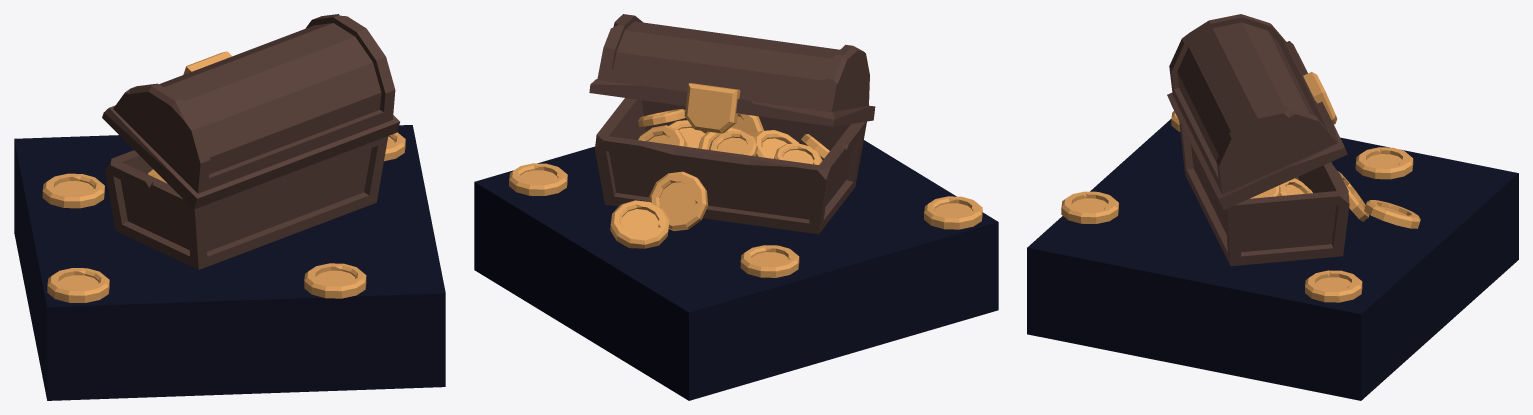
The model's file is chest.glb.
3 renders of one model, left to right at view 1: azimuth 30°, elevation 25°; view 2: azimuth 150°, elevation 25°; view 3: azimuth 270°, elevation 25°, orthographic. The views are drawn at different scales.
Parts seen in each view (by area): view 1: Plane.003, Plane.002, Plane.004, Circle.013, Circle.001, Circle.012, Circle.014, Plane.005; view 2: Plane.003, Plane.002, Plane.004, Circle.015, Circle.016, Plane.005, Circle.001, Circle.012, Circle.014, Circle.009, Circle.004, Circle.007 (+4 smaller); view 3: Plane.003, Plane.002, Plane.004, Circle.013, Circle.014, Circle.012, Circle.016, Plane.005, Circle.015.
Part boxes in pixels (box(x1,y1,x2,y2)): Plane.003: box(14, 125, 445, 400); Plane.002: box(102, 14, 399, 209); Plane.004: box(105, 136, 388, 269); Circle.013: box(304, 263, 366, 298); Circle.001: box(47, 268, 109, 302); Circle.012: box(42, 173, 104, 208); Circle.014: box(384, 132, 405, 161); Plane.005: box(183, 51, 232, 74); Plane.003: box(474, 140, 998, 400); Plane.002: box(589, 14, 875, 126); Plane.004: box(595, 98, 866, 234); Circle.015: box(649, 171, 707, 231); Circle.016: box(610, 200, 669, 248); Plane.005: box(684, 83, 740, 133); Circle.001: box(924, 196, 982, 229); Circle.012: box(740, 245, 799, 277); Circle.014: box(509, 163, 567, 195); Circle.009: box(709, 131, 757, 156); Circle.004: box(753, 130, 798, 158); Circle.007: box(774, 143, 822, 164); Plane.003: box(1027, 119, 1518, 400); Plane.002: box(1167, 14, 1347, 209); Plane.004: box(1179, 121, 1349, 266); Circle.013: box(1061, 191, 1118, 223); Circle.014: box(1305, 270, 1362, 302); Circle.012: box(1355, 147, 1413, 179); Circle.016: box(1364, 200, 1420, 228); Plane.005: box(1303, 72, 1337, 124); Circle.015: box(1338, 171, 1369, 221).
Bounding box in the file's own units: 10.03 × 5.4 × 10.03.
